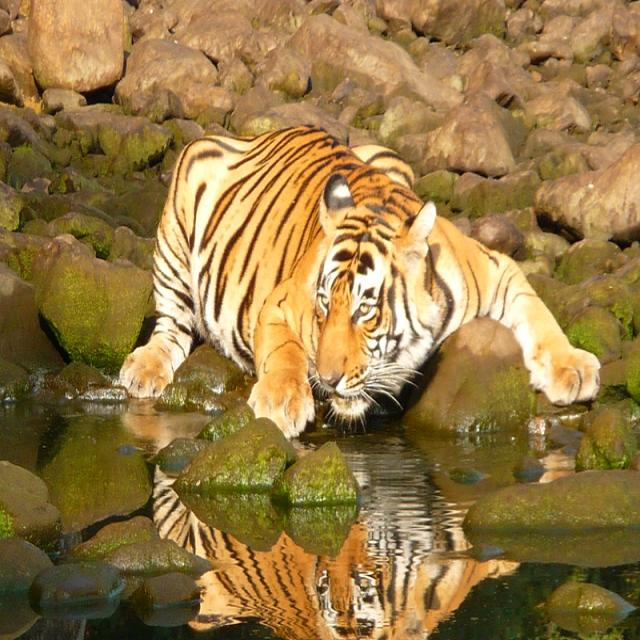Tiger: (117, 125, 600, 435)
